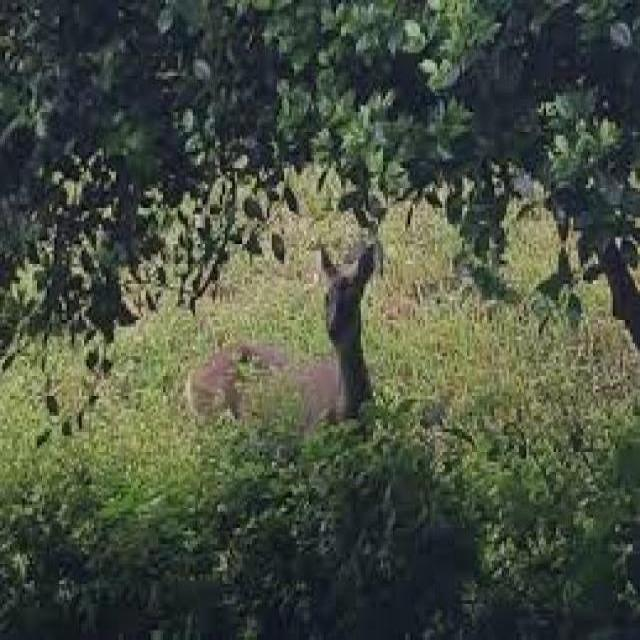deer: (172, 227, 386, 422)
